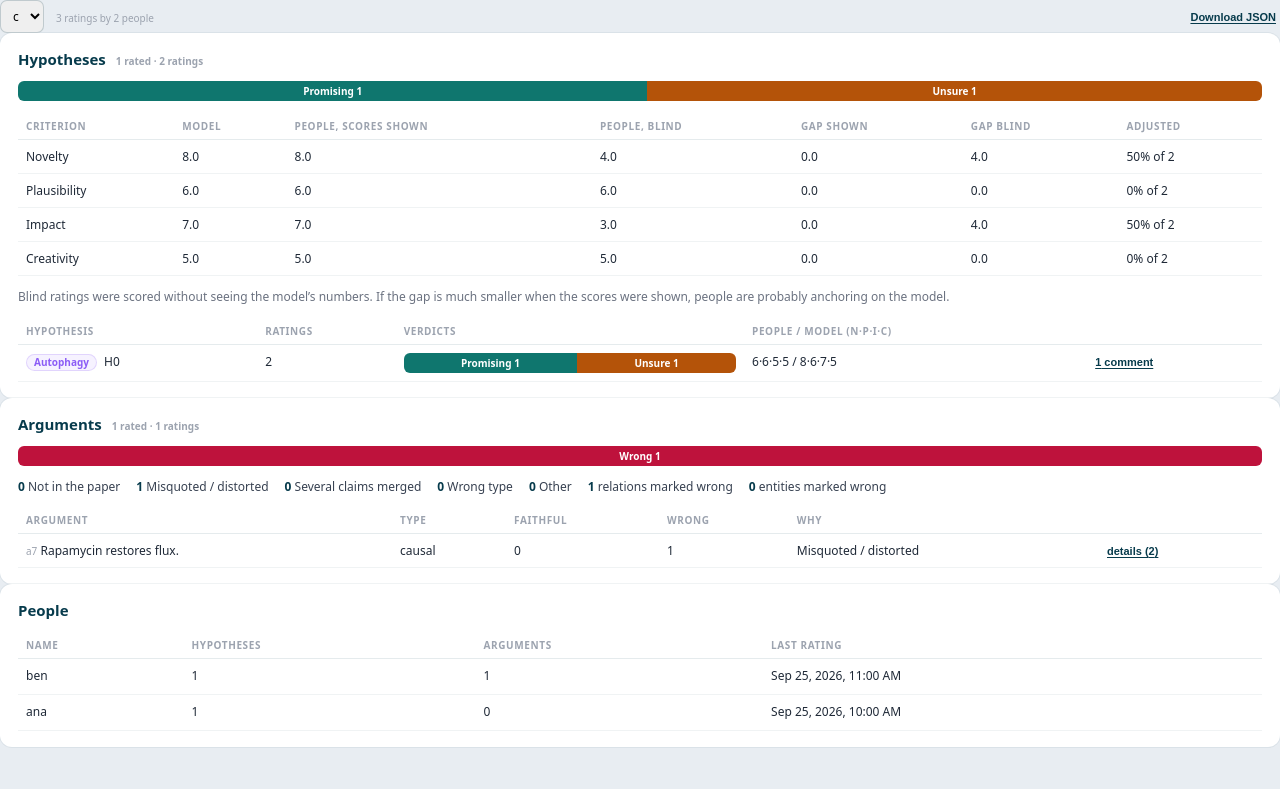
Test: EvaluationsOverview › loads a collection’s ratings and shows the comments on demand
Expected: the text "3 ratings by 2 people" is shown, x1=56 y1=10 x2=154 y2=24
Step 1. Click the button "1 comment" → point(1124, 362), box x1=1091 y1=354 x2=1157 y2=370
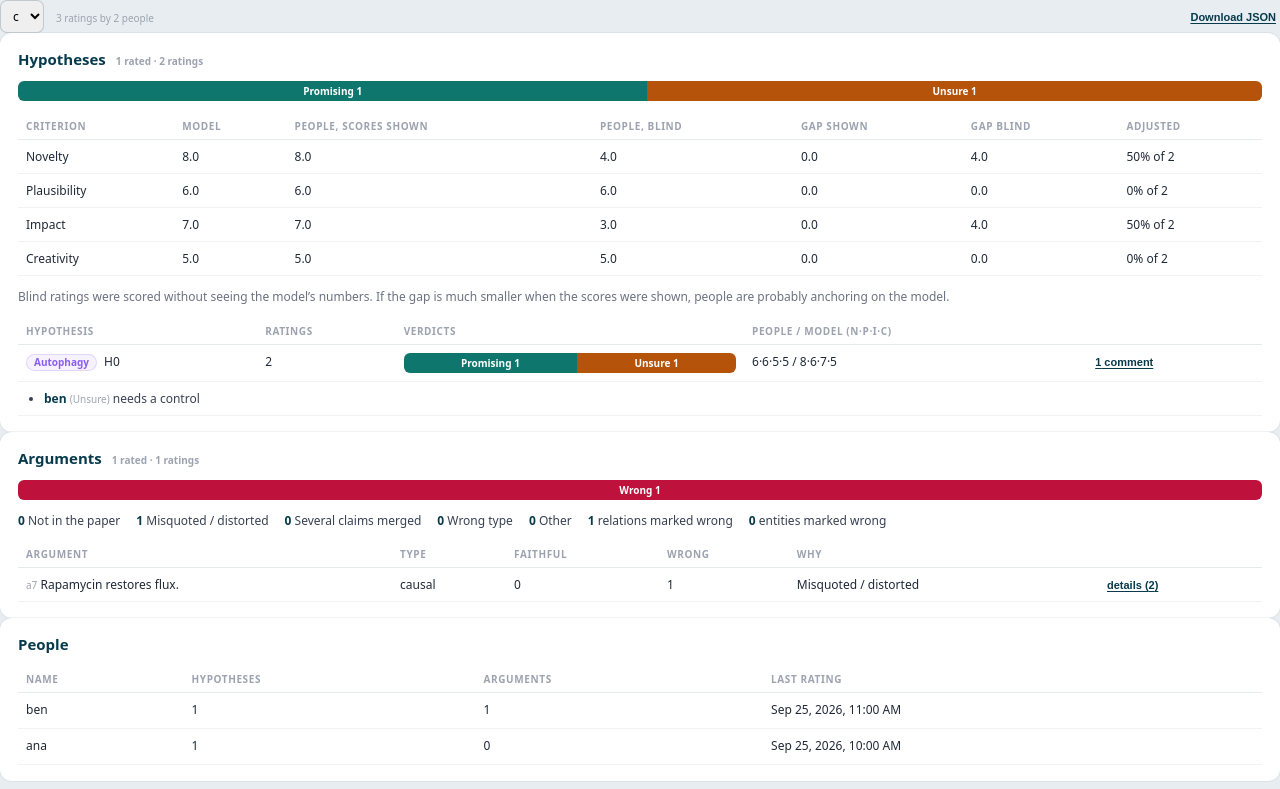
Now the list item "ben (Unsure) needs a control" is shown, box x1=44 y1=390 x2=200 y2=407
Step 2. Click the button "details (2)" → point(1133, 585), box x1=1103 y1=577 x2=1162 y2=593
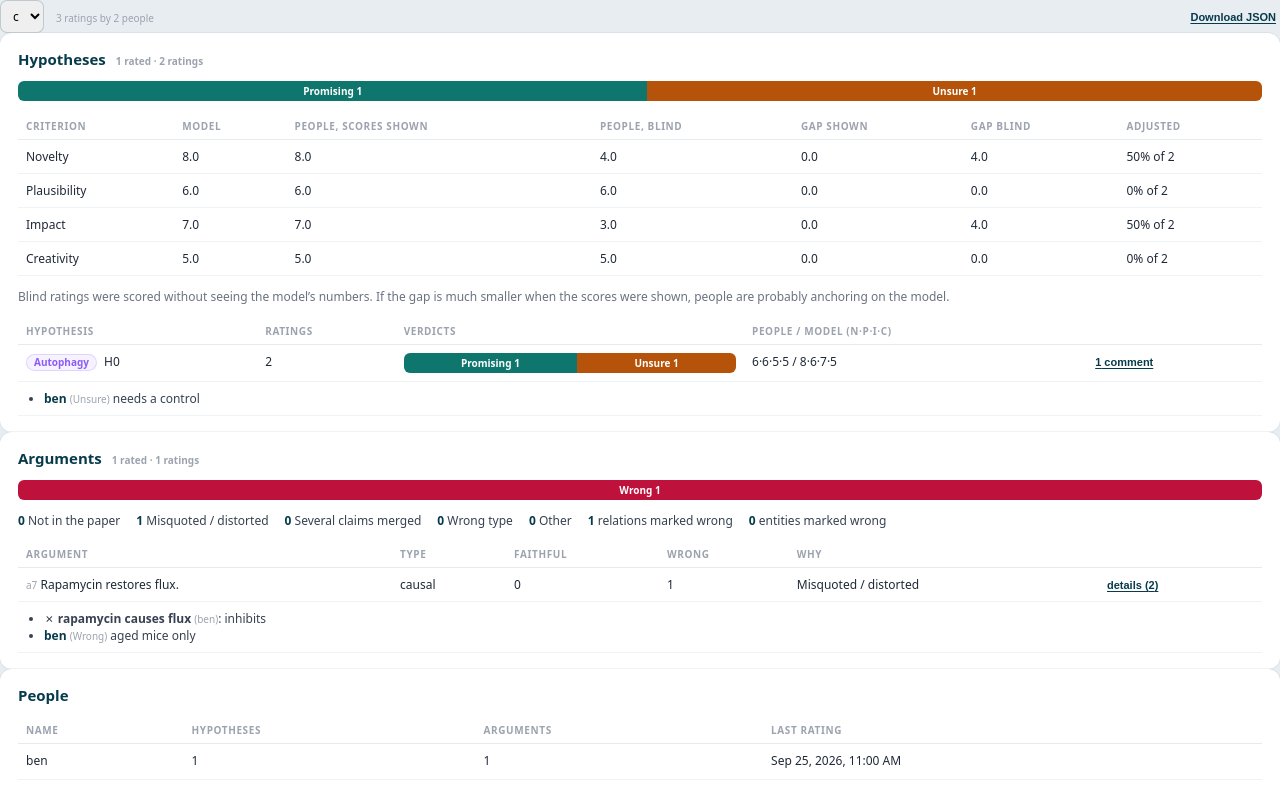
Now the text "rapamycin causes flux" is shown, box x1=58 y1=610 x2=191 y2=627
